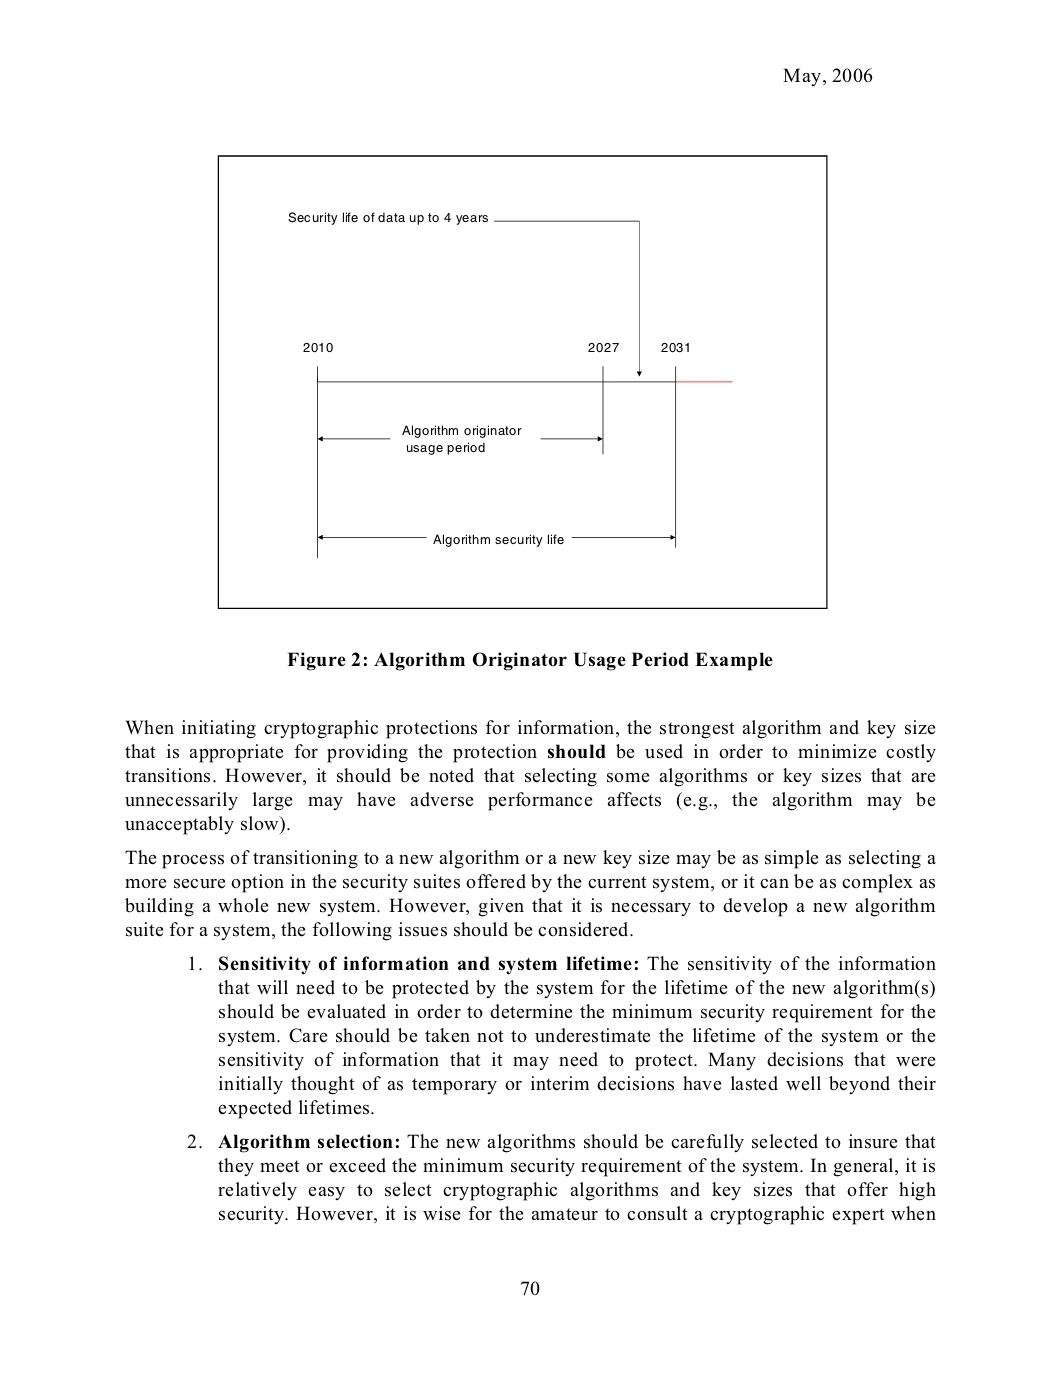figure: (217, 154, 827, 608)
